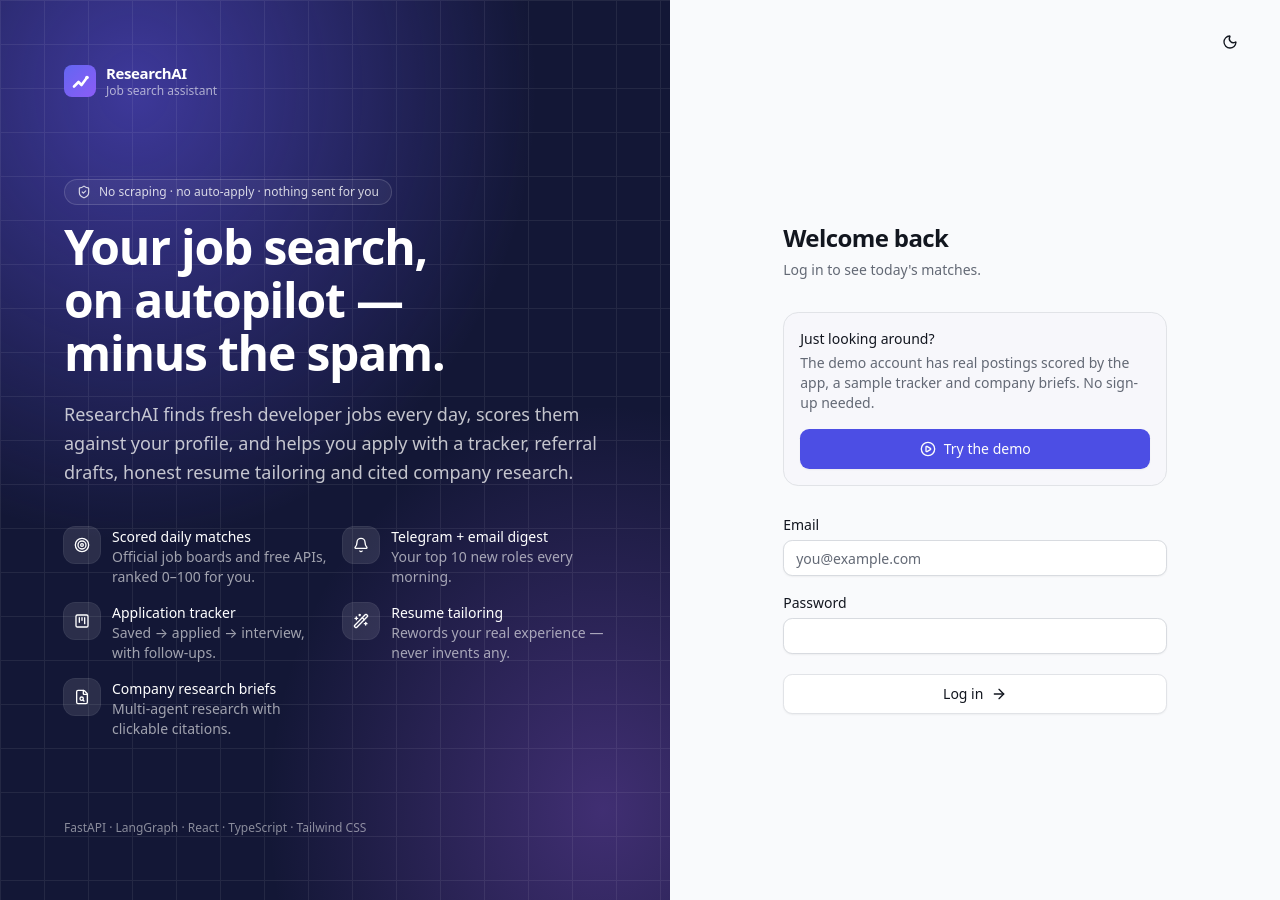
it: LoginPage › shows validation errors inline
Click the button "Log in" at (975, 694), box x1=783 y1=674 x2=1167 y2=714
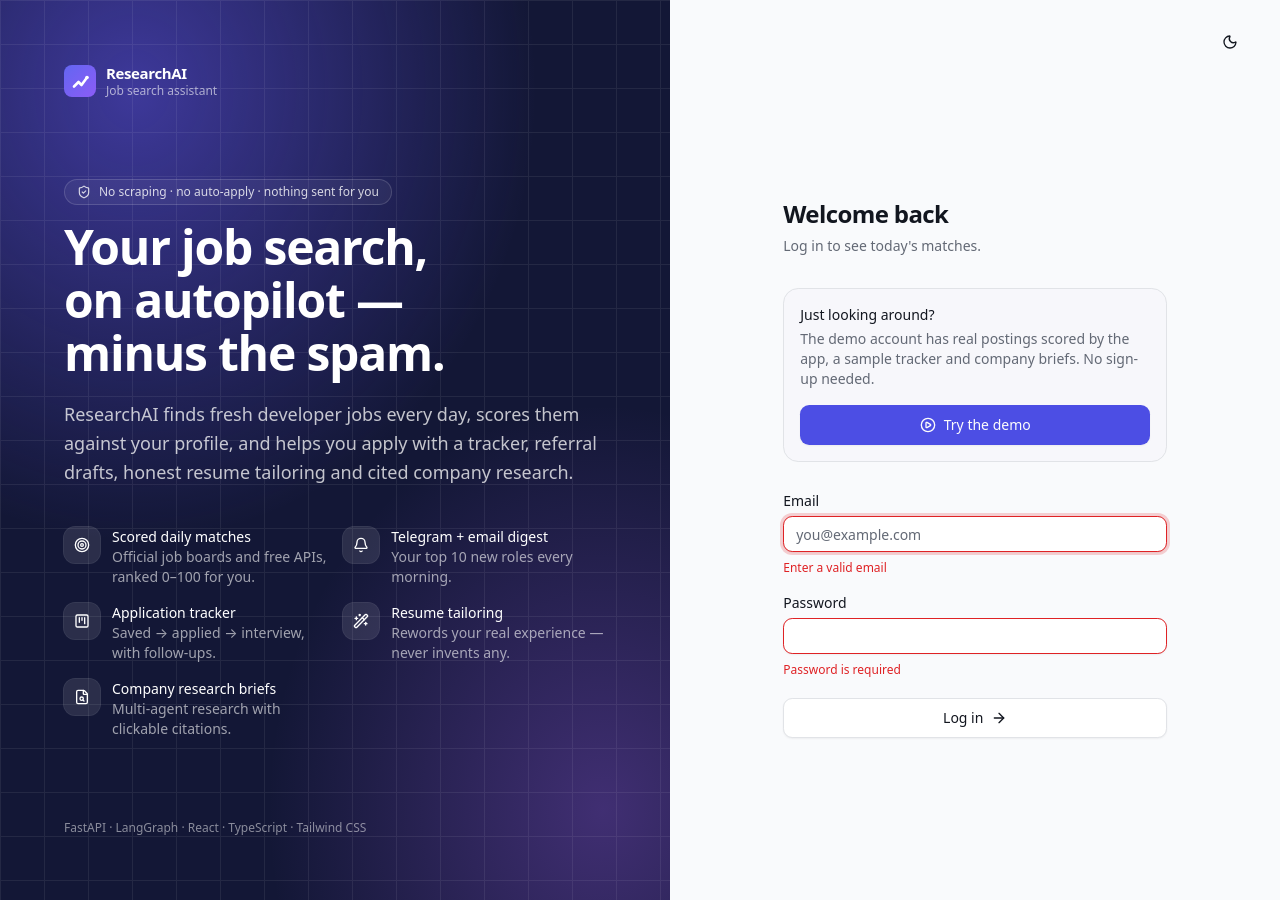
Expected: the text "Enter a valid email" is shown, x1=783 y1=559 x2=887 y2=576
